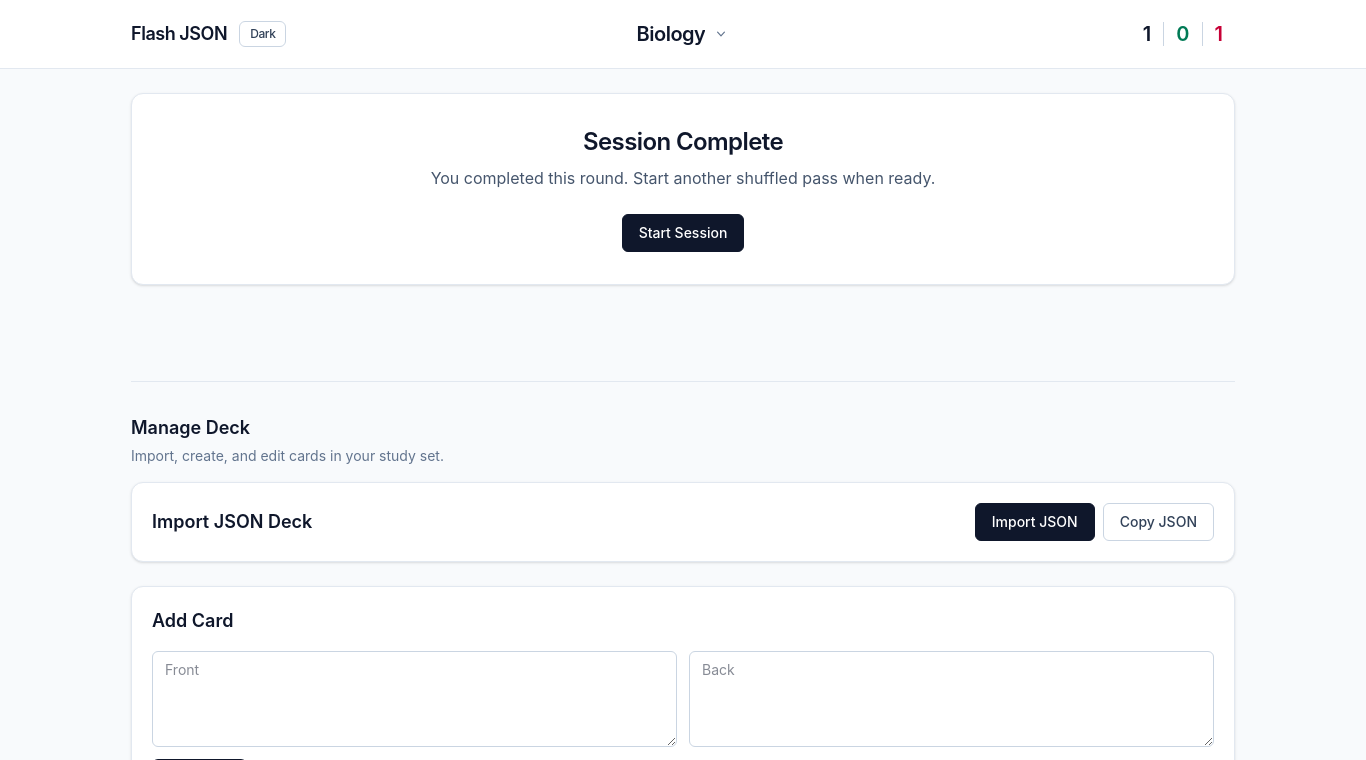
Scenario: FlashcardApp with study sets › creates a new set and switches to it
Click the button with aria-label "Study set:" at x=683, y=34, box [625, 16, 741, 52]
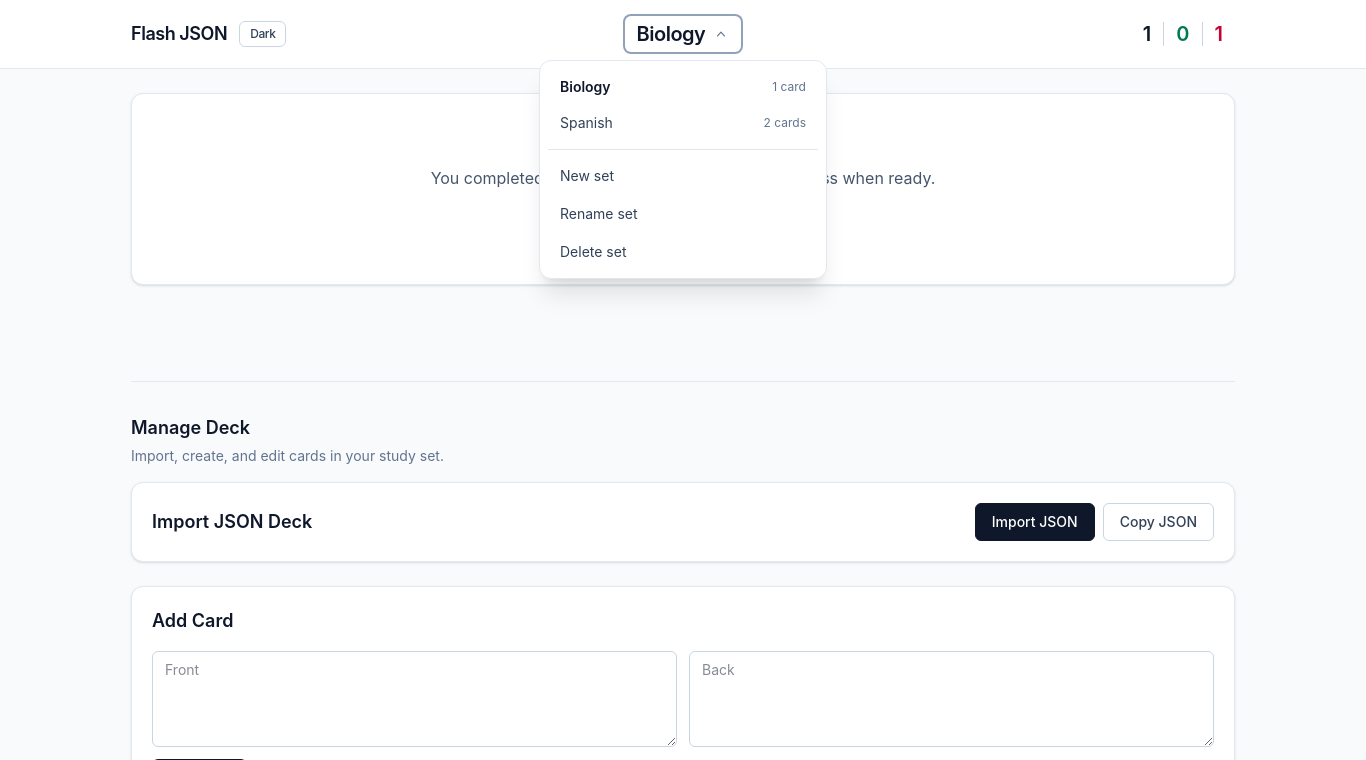
Click the button "New set" at x=587, y=176, box [548, 158, 818, 194]
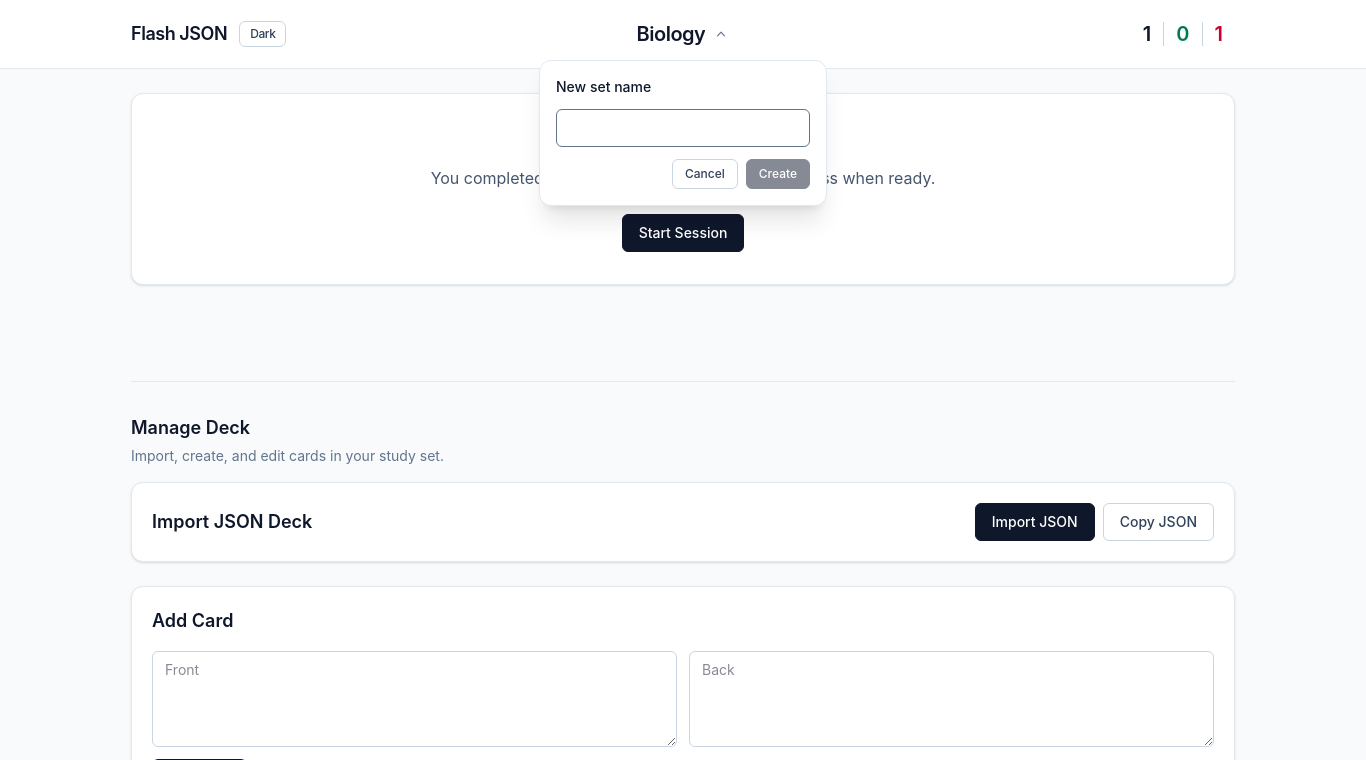
Type "Chemistry" into the field labelled "New set name" at x=683, y=128, box [556, 109, 810, 147]
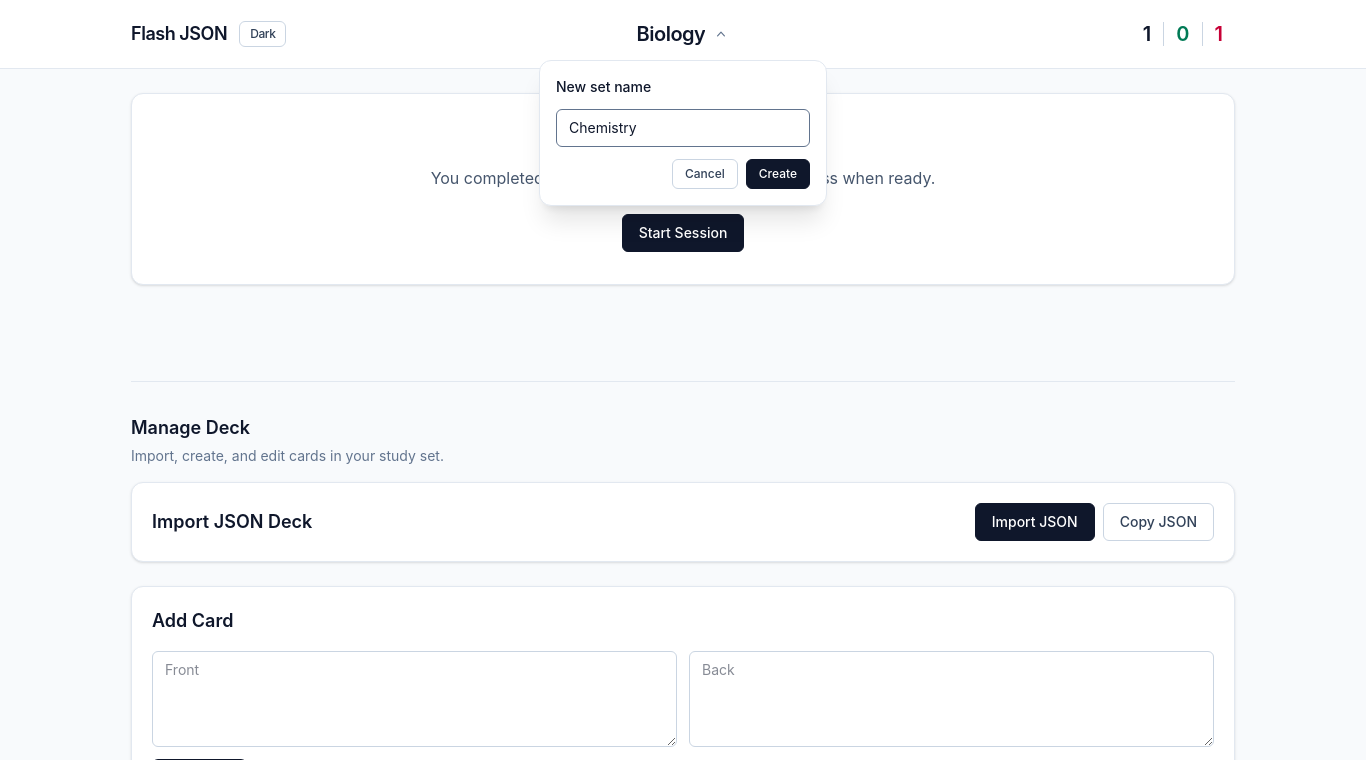
Click the button "Create" at x=778, y=174, box [746, 159, 810, 189]
(page scrolled)
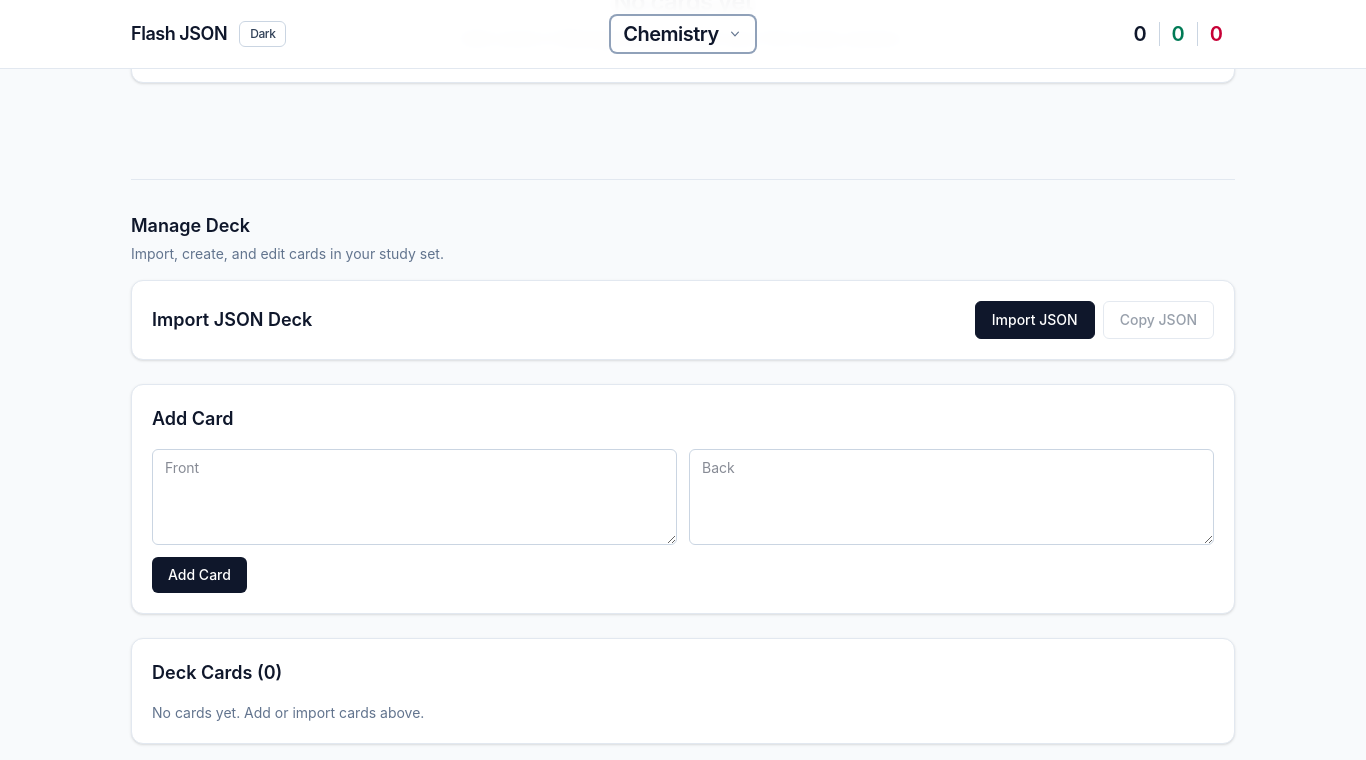
Check: the button with aria-label "Study set:" reads "Chemistry", box [611, 16, 755, 52]
Check: the heading "Deck Cards (0)" is shown, box [152, 662, 282, 683]
